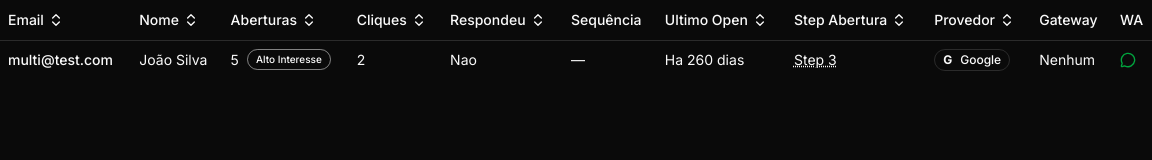
Test: LeadTrackingTable › coluna WhatsApp (Story 11.7 AC #3) › tooltip mostra contagem e data para multiplas mensagens
Step 1. Hover over the element with test id "whatsapp-indicator" → (1120, 52), box x1=1120 y1=52 x2=1136 y2=68
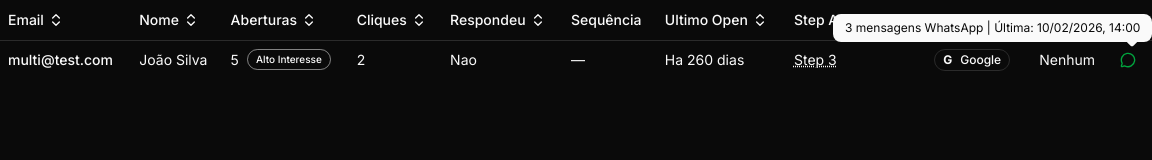
Now the tooltip shows "3 mensagens WhatsApp", box x1=845 y1=20 x2=1140 y2=35
